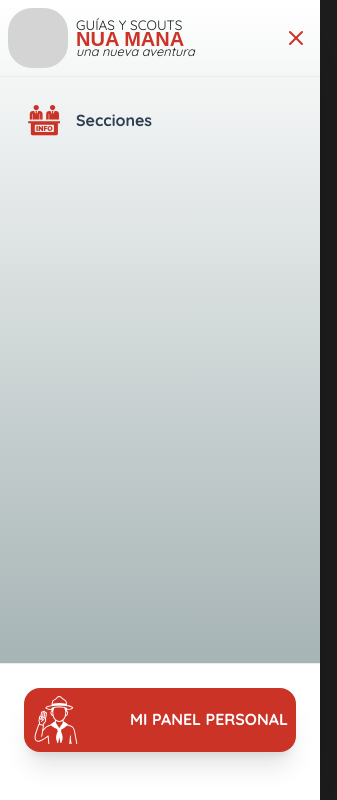
Scenario: SidebarDrawer — drawer sub-view UX from tree data › opens a sub-view for roots with children and back returns to main, without pushing a route
Click the button "Secciones" at [44, 121], box left=16, top=93, right=304, bottom=149
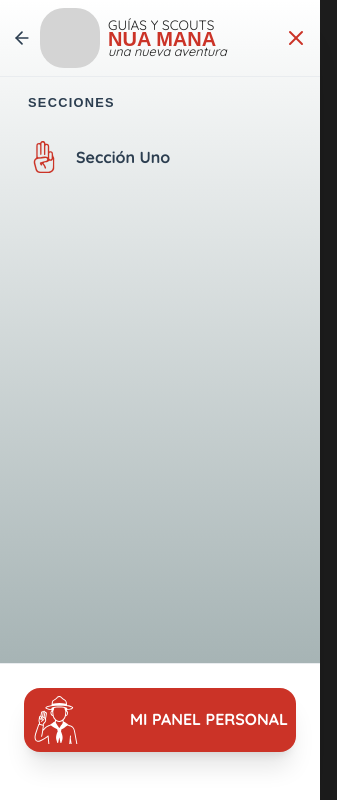
Check: the text "Sección Uno" is shown, box left=76, top=145, right=170, bottom=170
Click the button named "volver al men" at [22, 38], box left=8, top=24, right=36, bottom=52
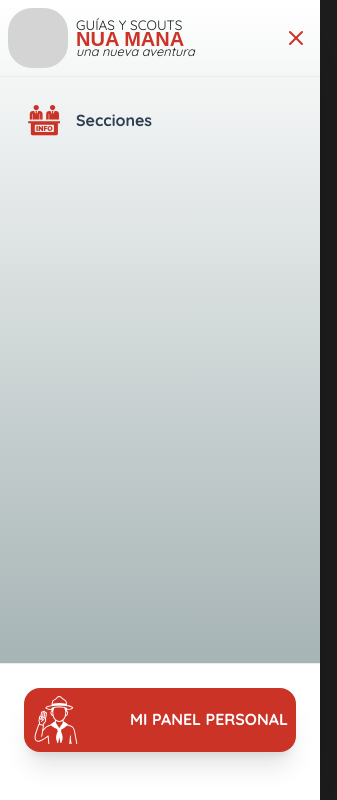
Check: the button "Secciones" is shown, box left=16, top=93, right=304, bottom=149
